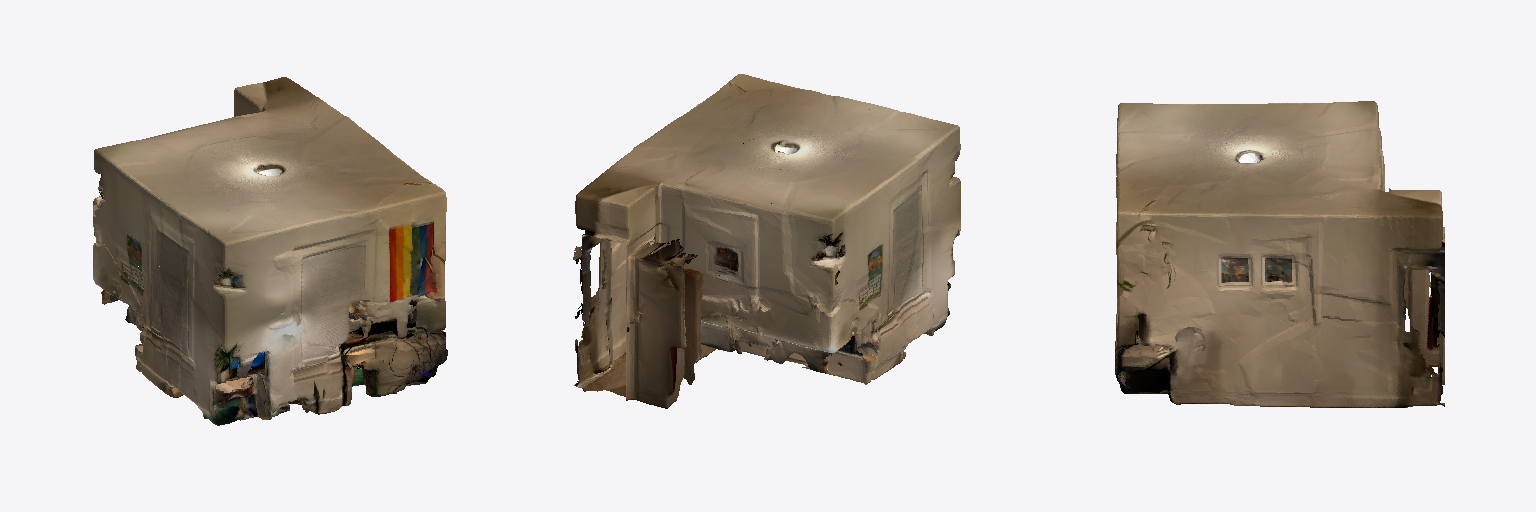
3 renders of one model, left to right at view 1: azimuth 30°, elevation 25°; view 2: azimuth 150°, elevation 25°; view 3: azimuth 270°, elevation 25°, orthographic.
Visible parts, largest first — view 1: mesh_0, mesh_1, mesh_3, mesh_2, mesh_4; view 2: mesh_0, mesh_1, mesh_2, mesh_3, mesh_4; view 3: mesh_0, mesh_2, mesh_1, mesh_3, mesh_4.
Boxes of the visible parts, box(x1,y1,x2,y2) form: mesh_0: box(94, 86, 447, 422); mesh_1: box(94, 85, 446, 416); mesh_3: box(93, 77, 446, 425); mesh_2: box(93, 135, 445, 419); mesh_4: box(126, 105, 413, 386); mesh_0: box(573, 74, 960, 386); mesh_1: box(573, 74, 960, 408); mesh_2: box(574, 85, 943, 391); mesh_3: box(574, 94, 960, 390); mesh_4: box(599, 101, 959, 344); mesh_0: box(1116, 103, 1444, 407); mesh_2: box(1115, 104, 1444, 406); mesh_1: box(1116, 101, 1444, 406); mesh_3: box(1115, 112, 1444, 394); mesh_4: box(1140, 141, 1396, 365).
Bounding box in the file's own units: 3.02 × 2.51 × 3.76.
5 materials, 5 textured.